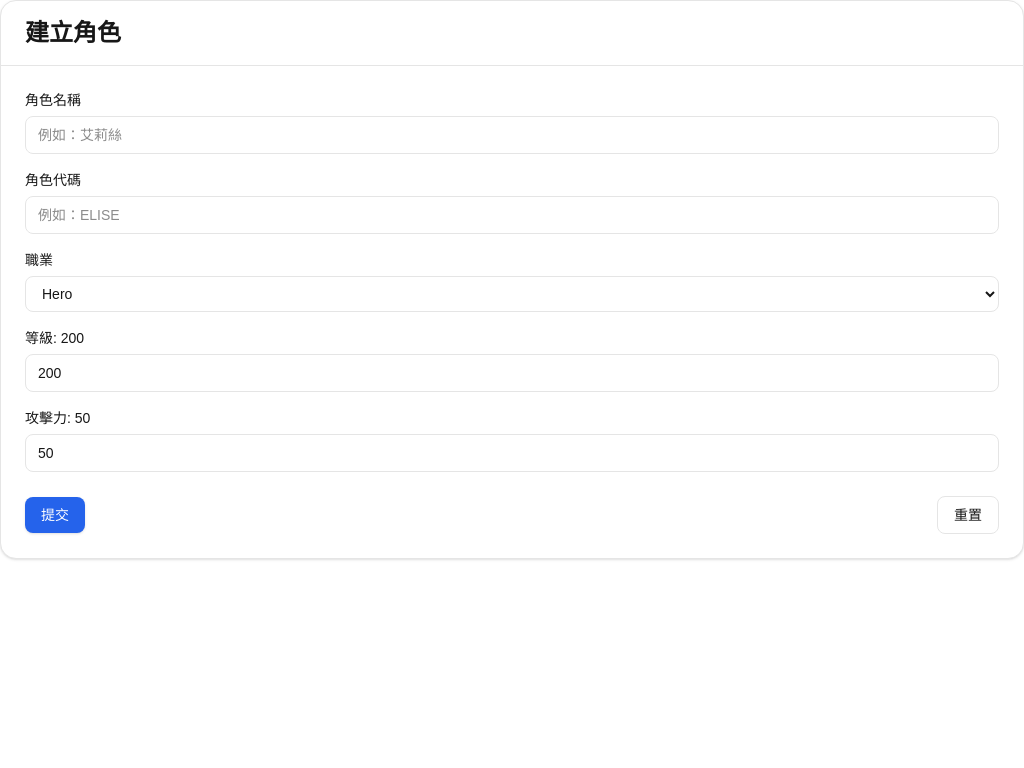
Test case: CharacterForm › shows error messages when required fields are empty
This screenshot has width=1024, height=768.
Click the button "提交" at (55, 515), box [25,497,85,533]
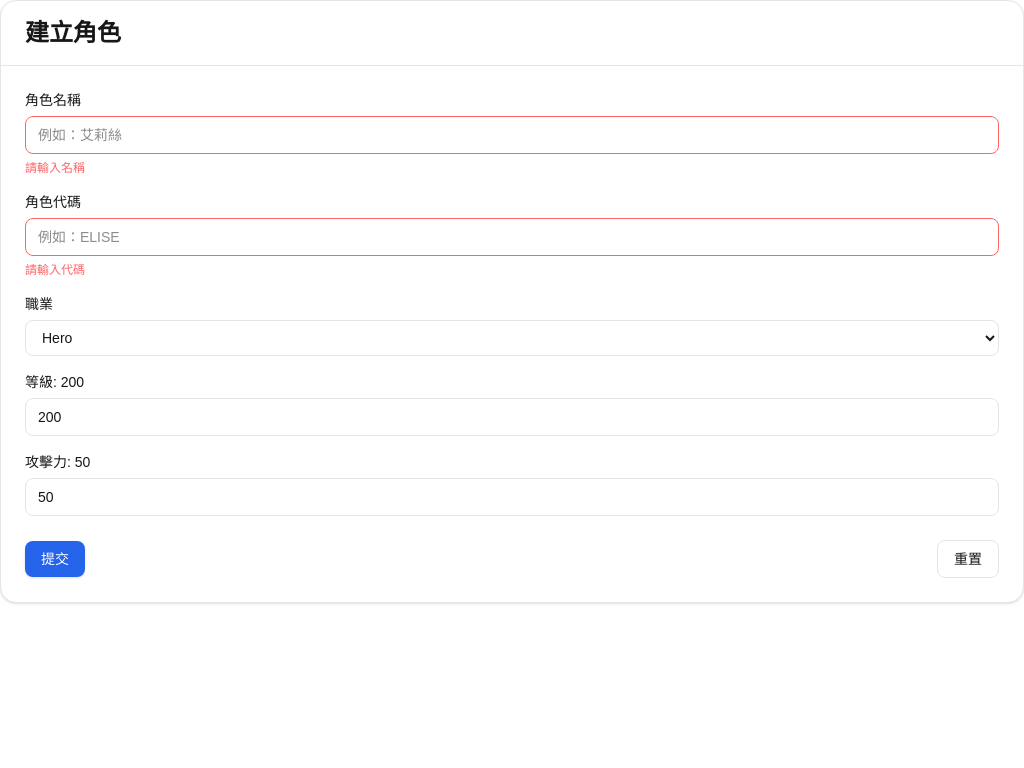
expect the text "請輸入名稱" is shown: met, box [25,161,85,175]
expect the text "請輸入代碼" is shown: met, box [25,263,85,277]
